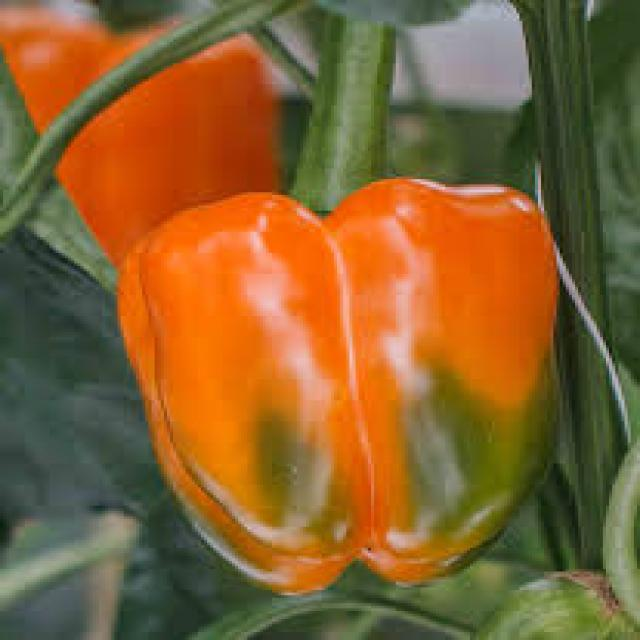Pepper: (114, 178, 575, 599)
